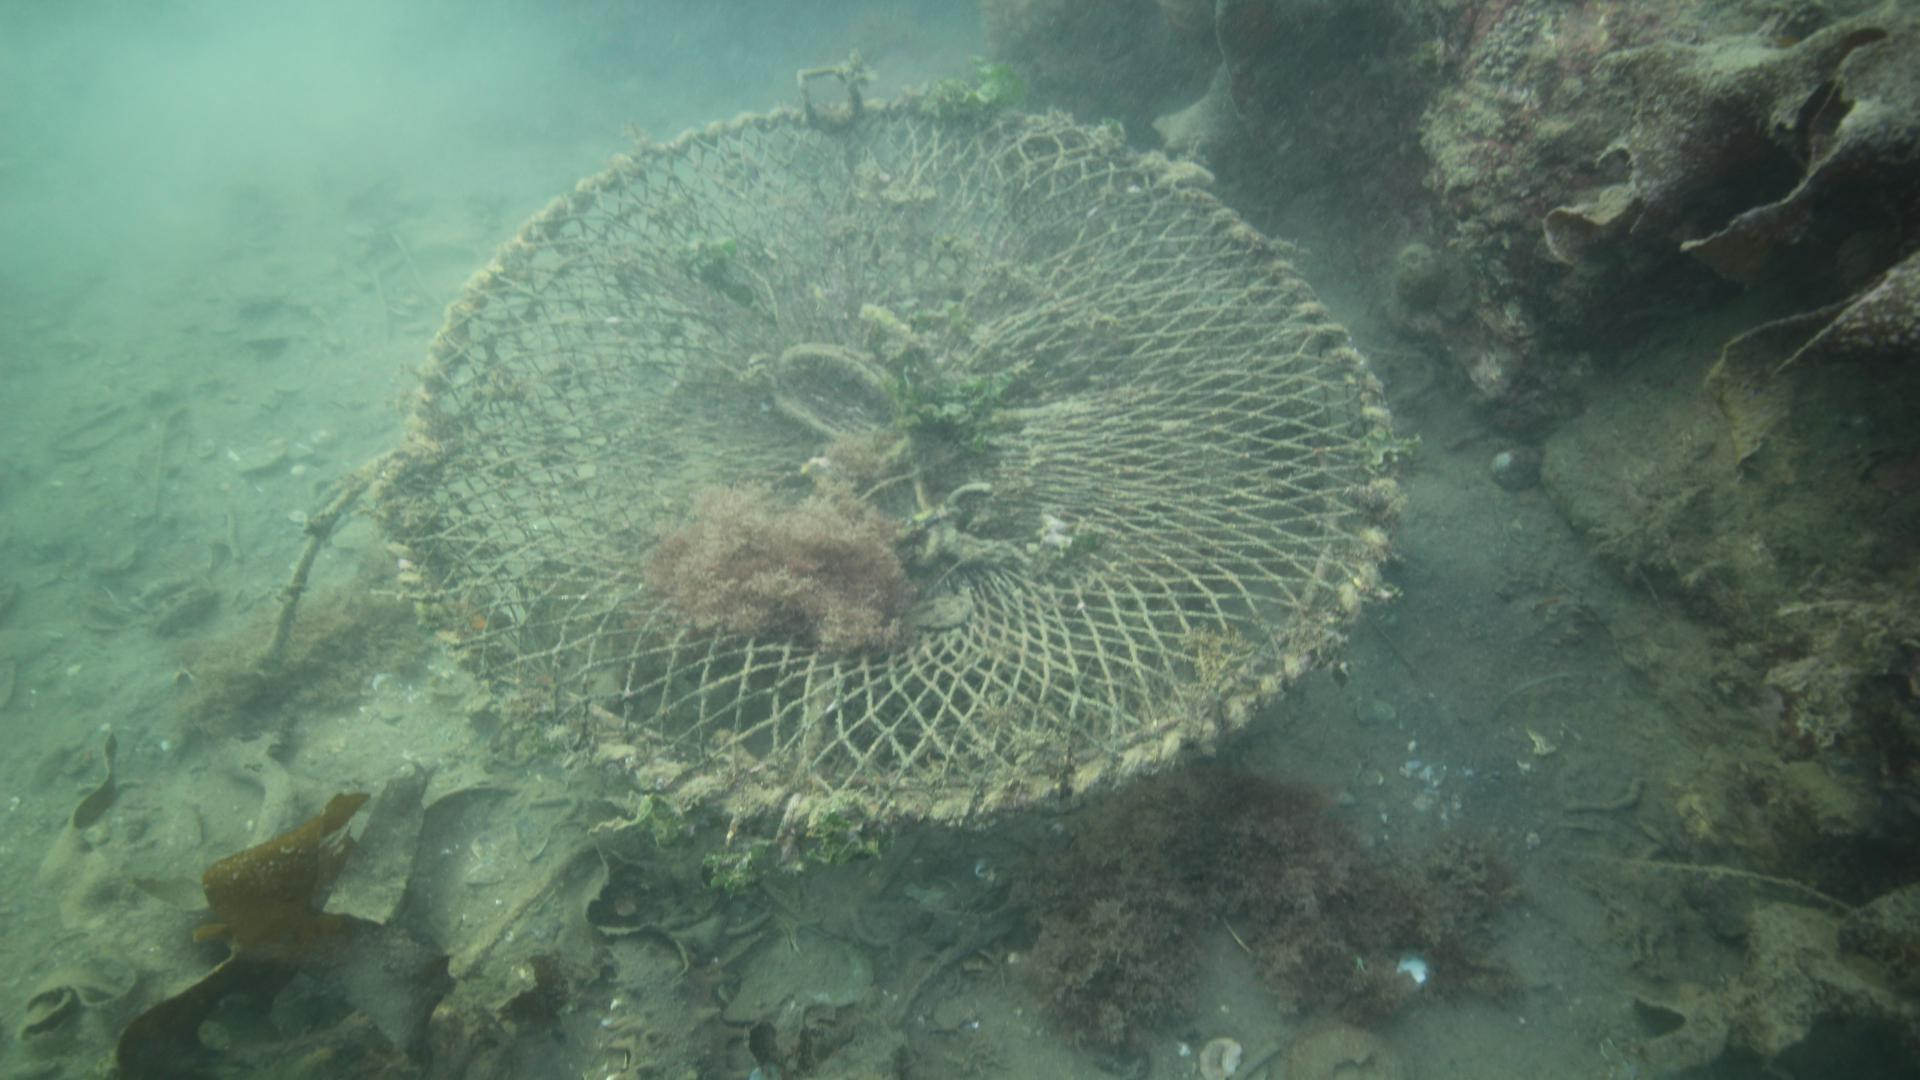circular fish trap: (382, 61, 1402, 862)
